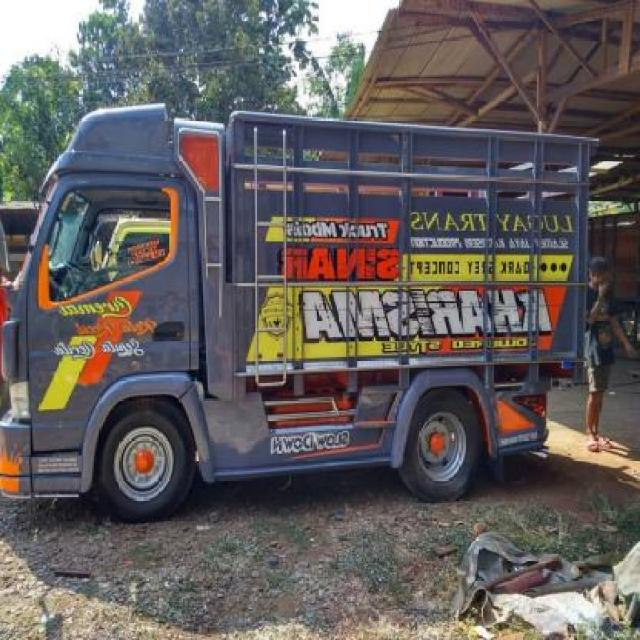truck: (1, 102, 606, 517)
